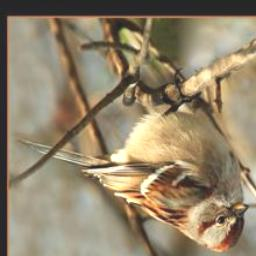Sparrow: (16, 65, 248, 254)
